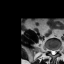CCS_normal: (52, 47, 54, 57)
LFS_normal: (56, 46, 58, 53)
LLS_normal: (54, 47, 56, 56)
RFS_normal: (48, 46, 50, 53)
RLS_normal: (50, 47, 52, 56)
